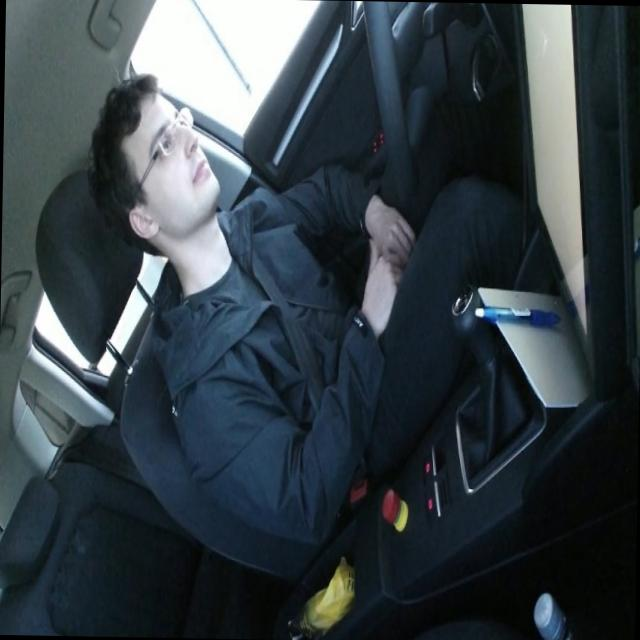pen: (474, 302, 560, 328)
